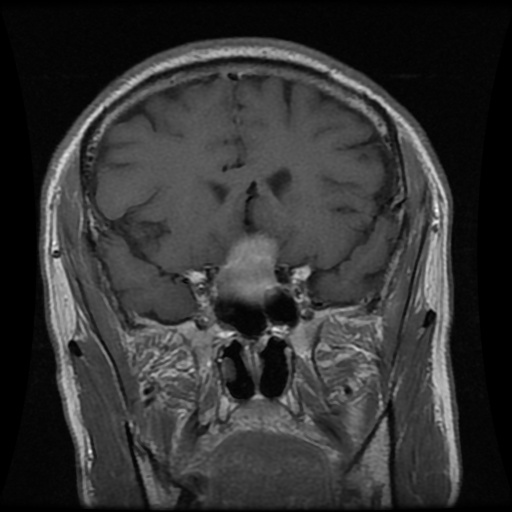pituitary: (210, 231, 281, 305)
